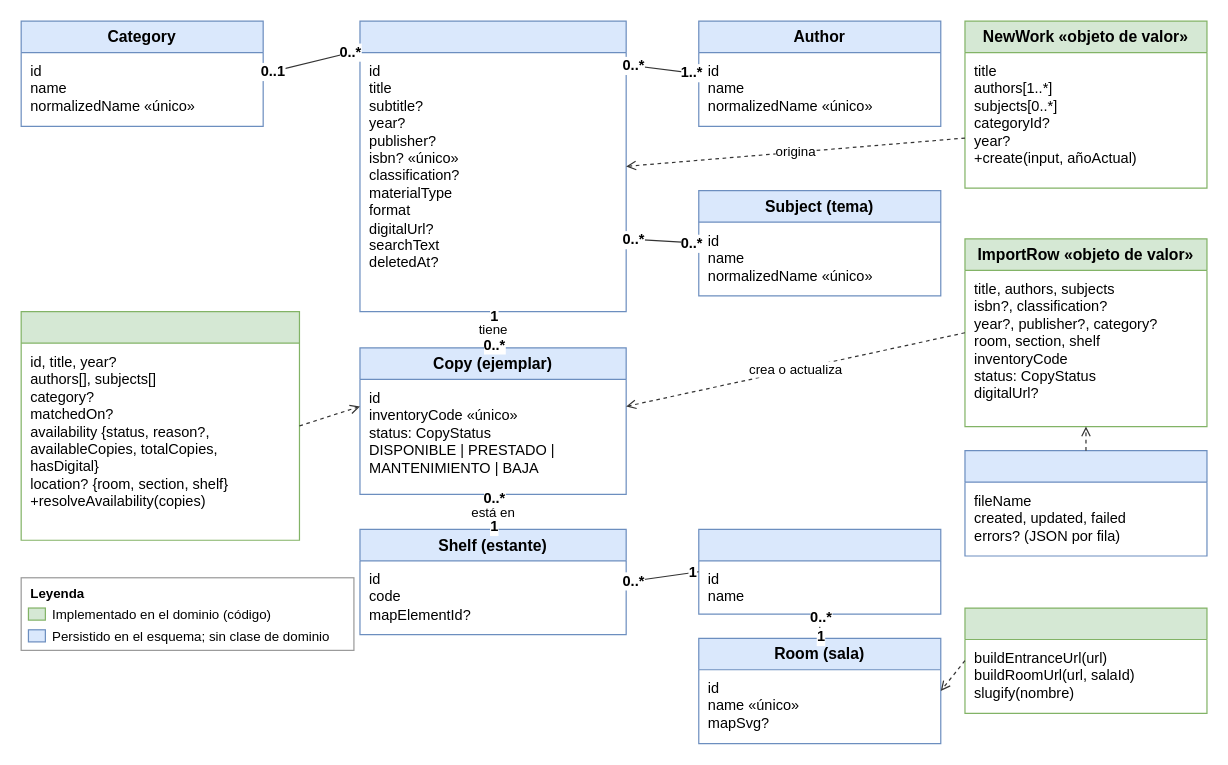
Some shapes in this 1228 by 765 pixel diagram are drawn without their labels. Here are the shapes that lost their labels. From the top down, the box of each, then its label:
(359, 20, 626, 312): Work (obra)
(20, 310, 299, 540): WorkSummary / Availability
(964, 450, 1207, 556): ImportJob
(698, 528, 941, 614): Section (sección)
(964, 607, 1207, 713): QrDestination
